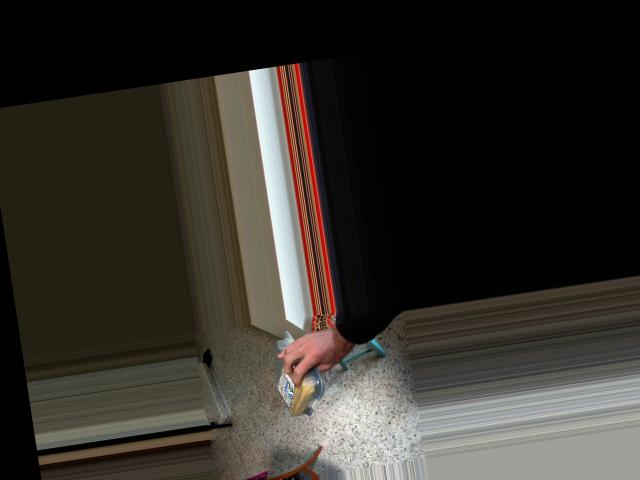cheese: (271, 351, 322, 421)
